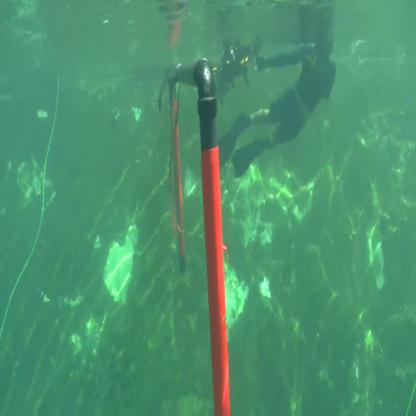gate: (168, 59, 240, 416)
